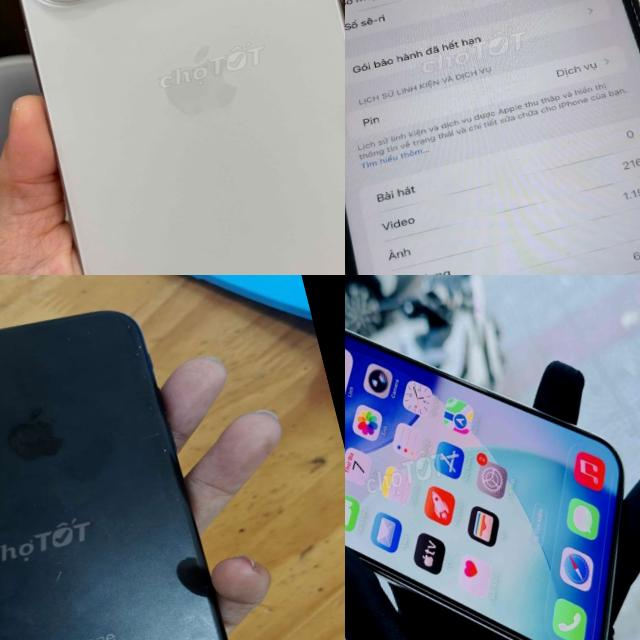gen_11: (345, 0, 640, 275)
gen_15: (345, 275, 640, 640), (0, 0, 345, 275)
gen_7_8: (0, 275, 275, 640)
scratch: (56, 301, 178, 479), (186, 599, 223, 633), (39, 560, 70, 586), (122, 631, 160, 640)
